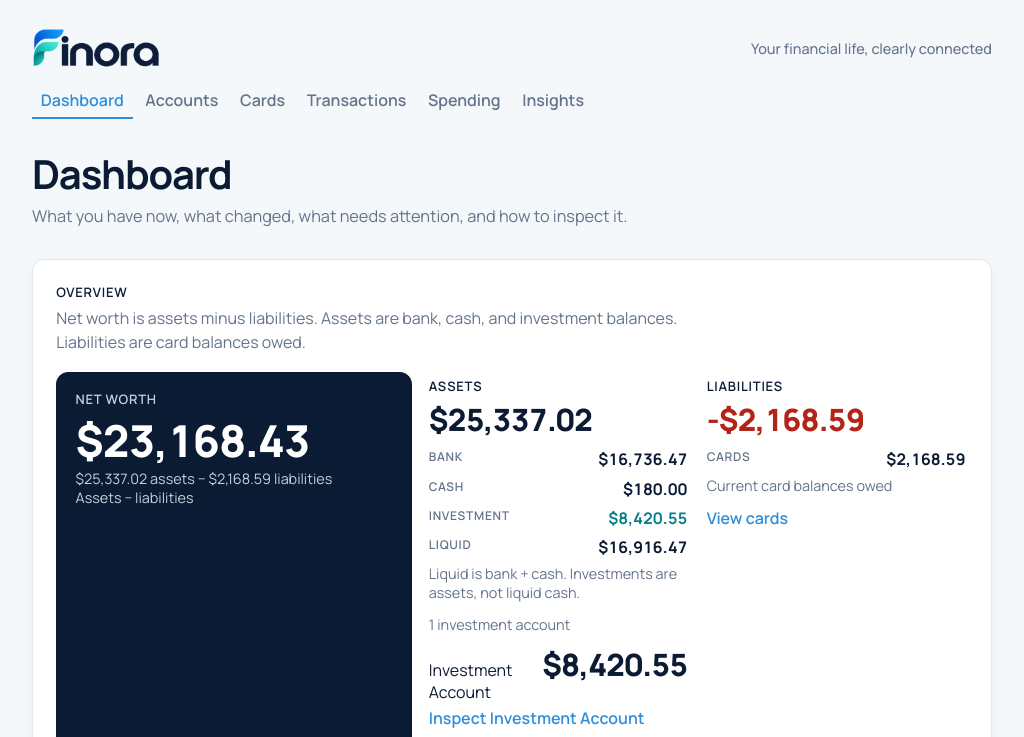
Test: Finora app navigation › opens the cards experience from the primary navigation
The image size is (1024, 737).
Click the button "Cards".
click(262, 100)  # box [231,82,294,119]
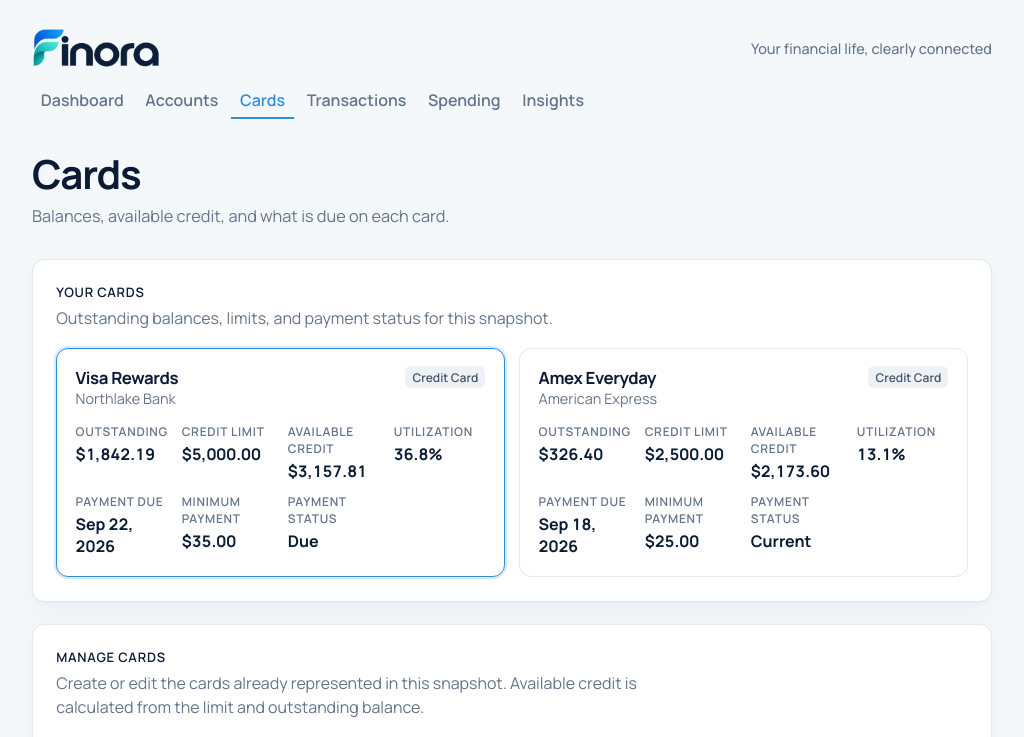
Now the heading "Cards" is shown, box [32,146,140,201]
Now the element "Your cards" is shown, box [32,259,992,602]
